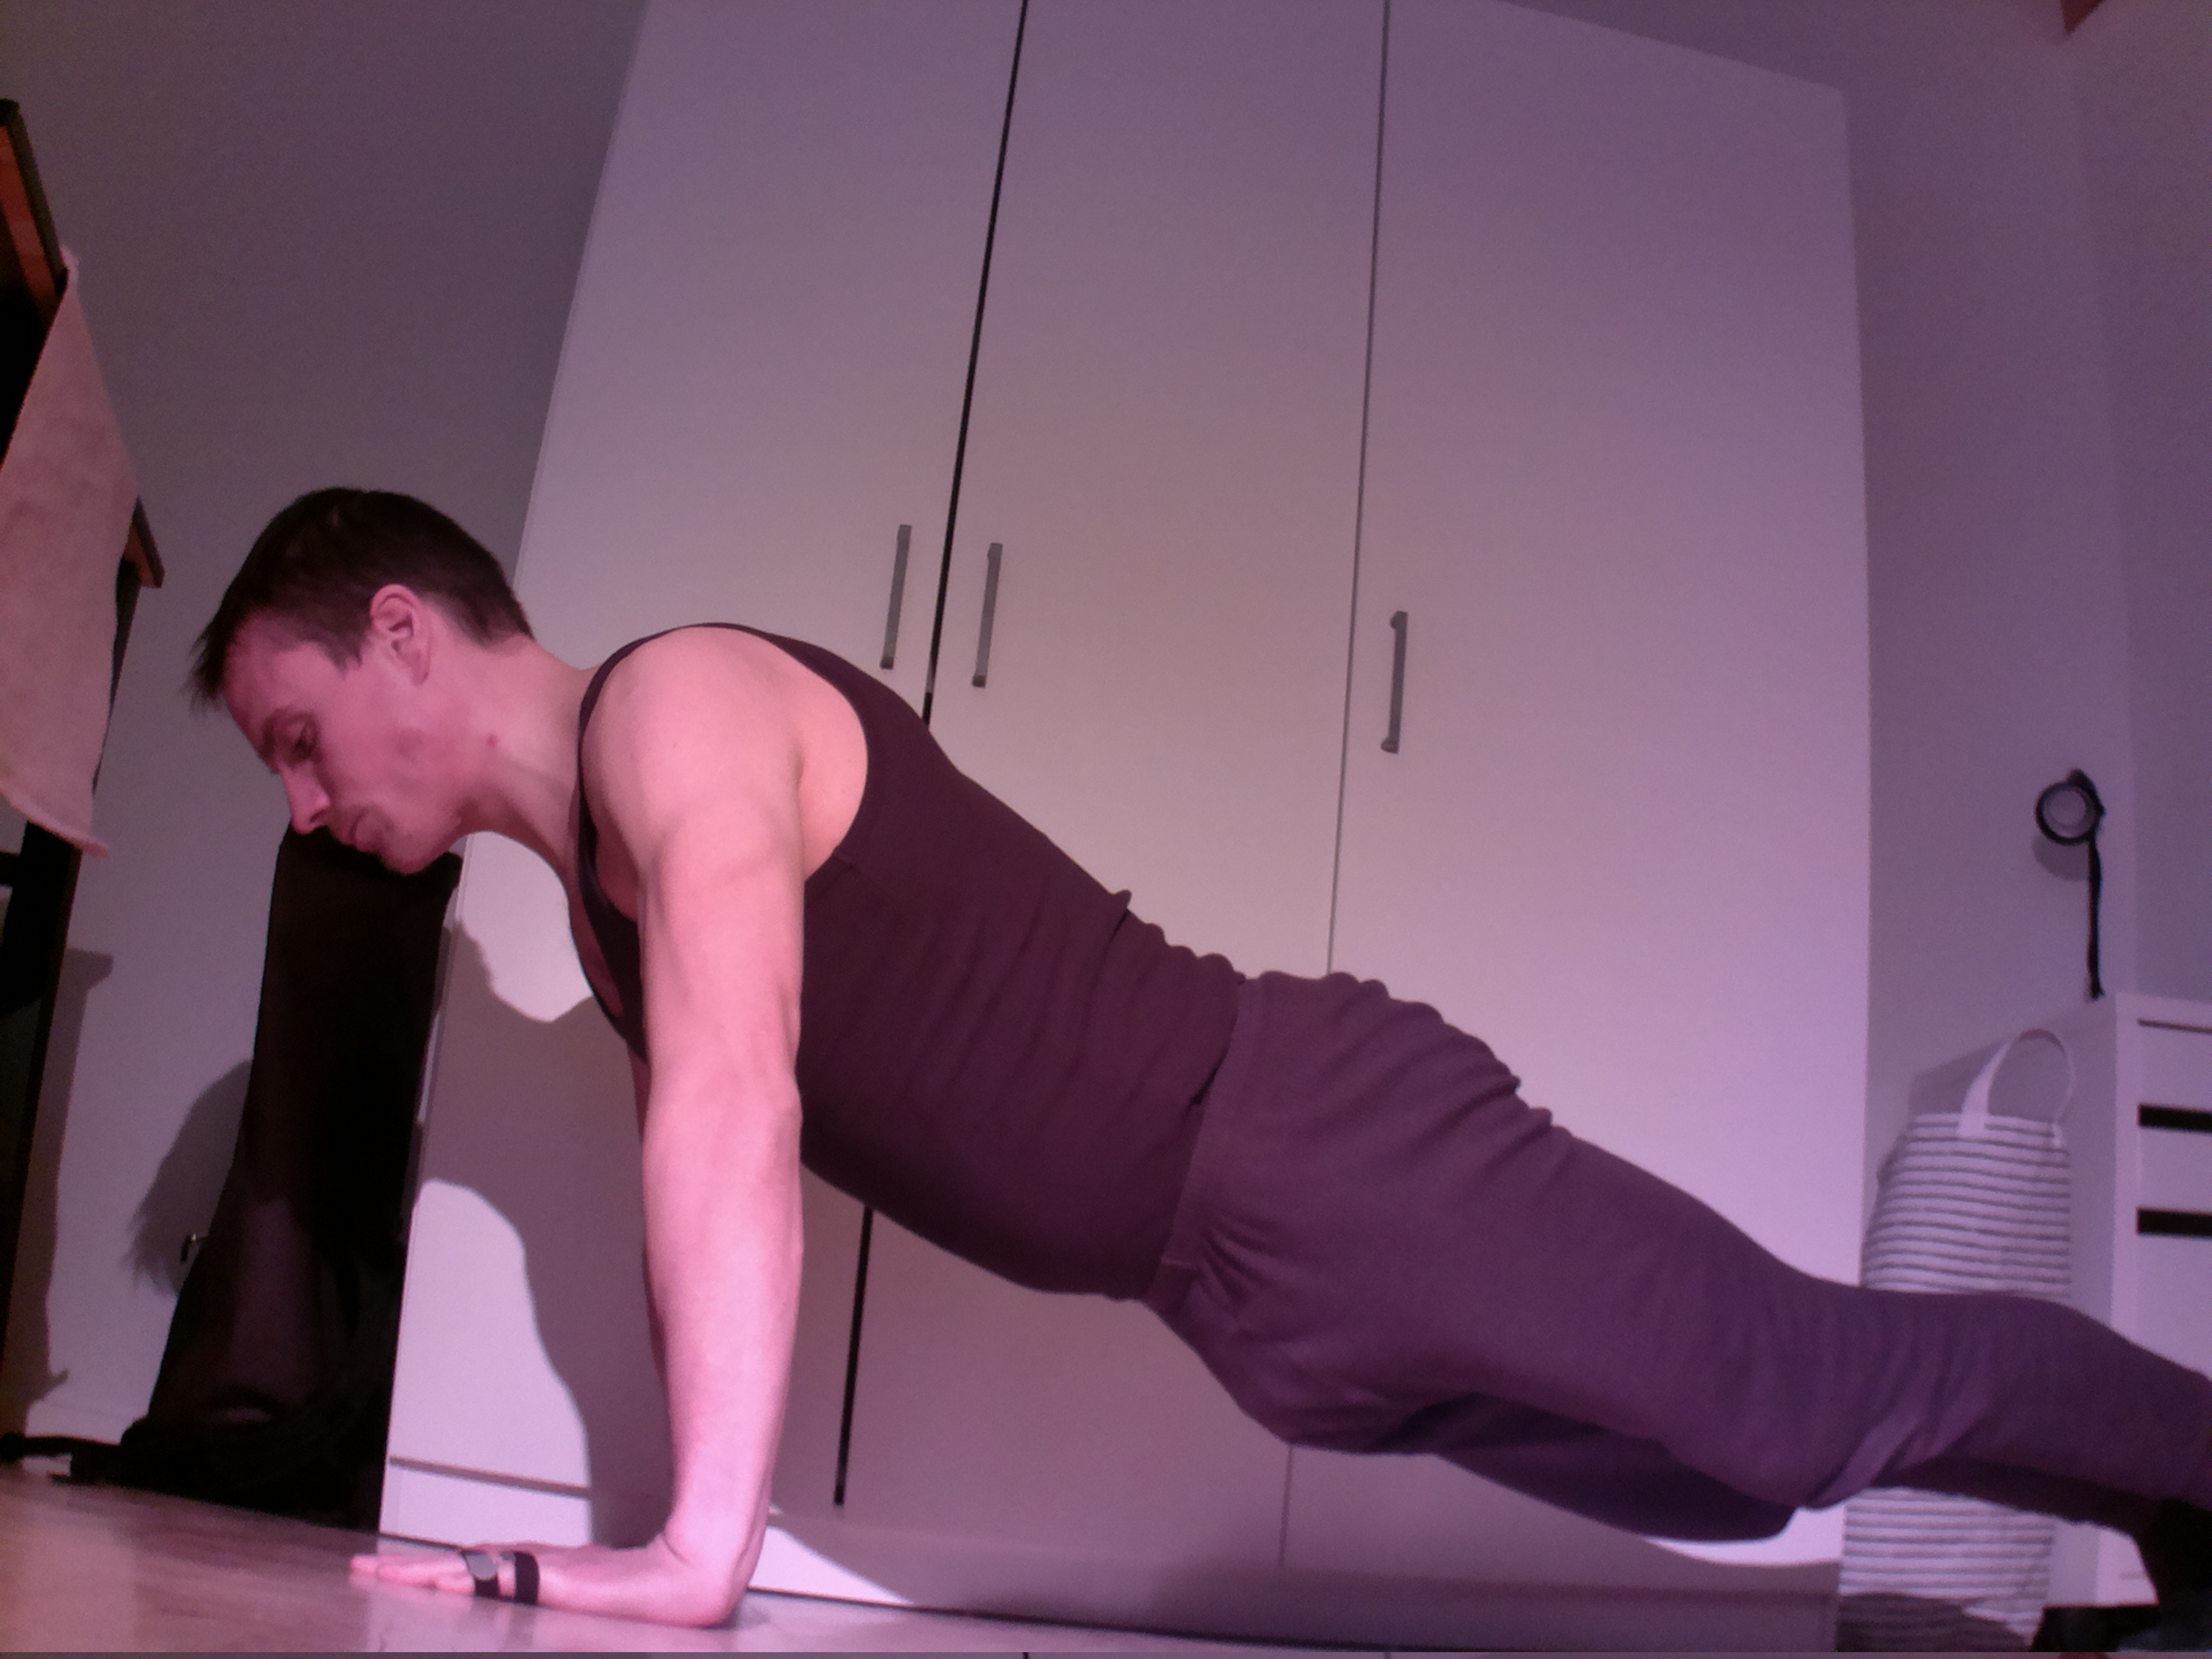CONAN: (171, 476, 1425, 1633)
